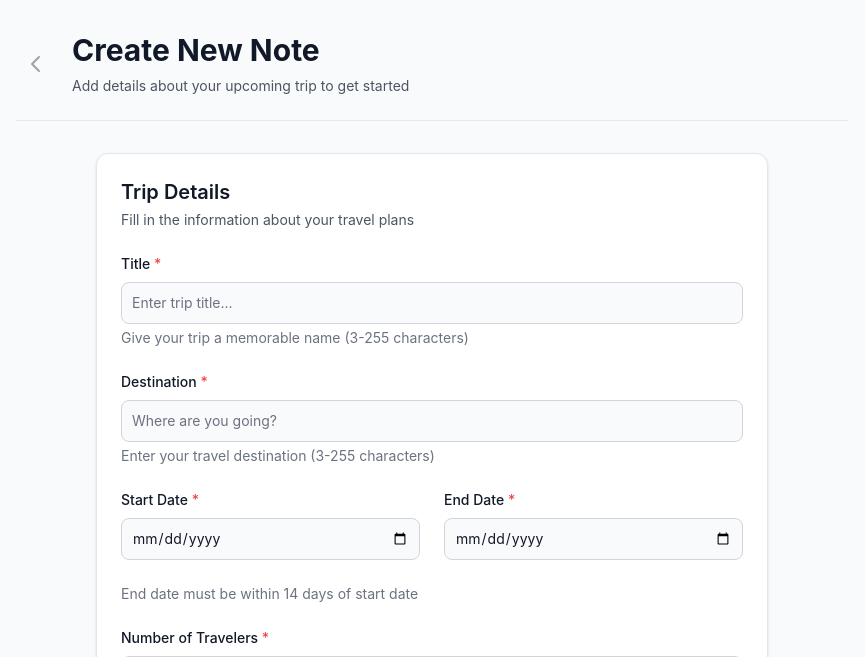
NoteCreateView - Core Functionality › Form Submission › should handle unexpected errors with generic message
# Fill form with minimal data
Type "Test Title" into the field labelled "Title *" at [432, 303], box top-left (121, 282), bottom-right (743, 324)
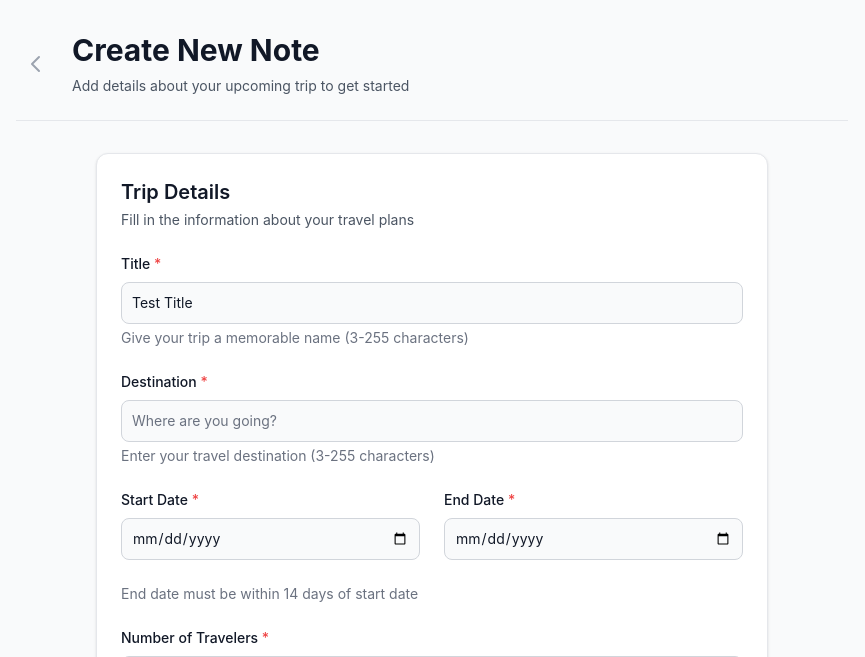
Type "Test Place" into the field labelled "Destination *" at [432, 421], box top-left (121, 400), bottom-right (743, 442)
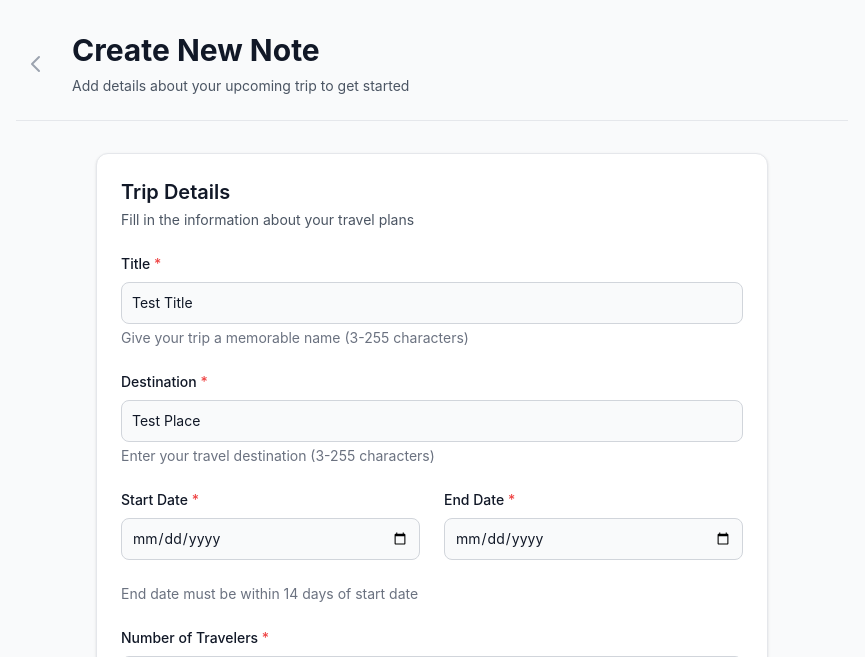
Type "2025-07-10" into the date field labelled "Start Date *" at [270, 539], box top-left (121, 518), bottom-right (420, 560)
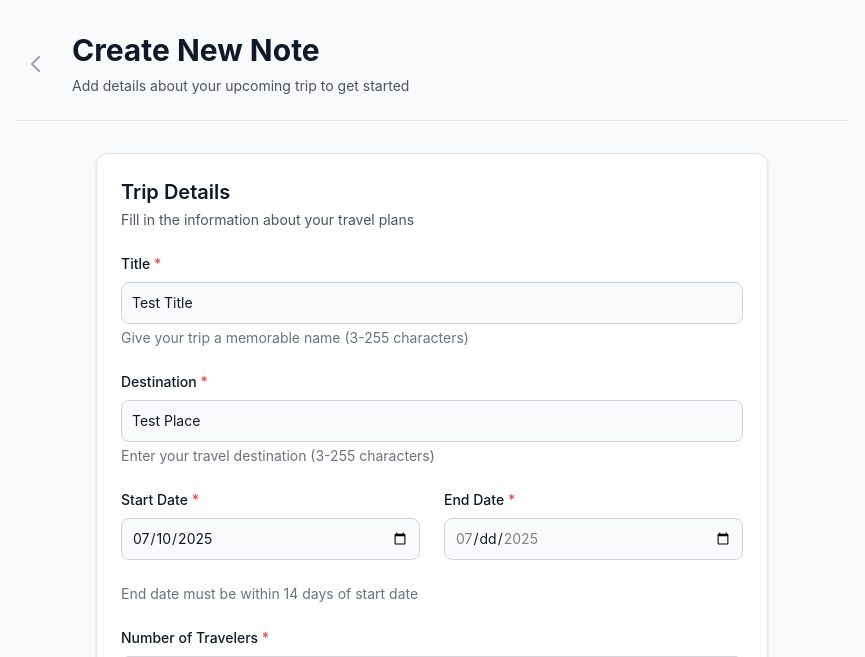
Type "2025-07-15" into the date field labelled "End Date *" at [594, 539], box top-left (444, 518), bottom-right (743, 560)
(page scrolled)
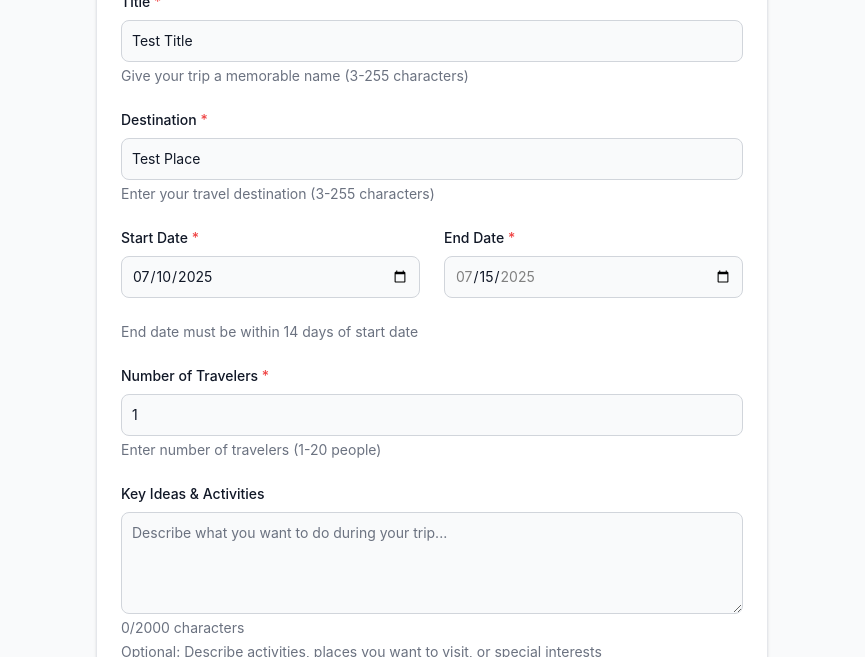
Submit the form
(page scrolled)
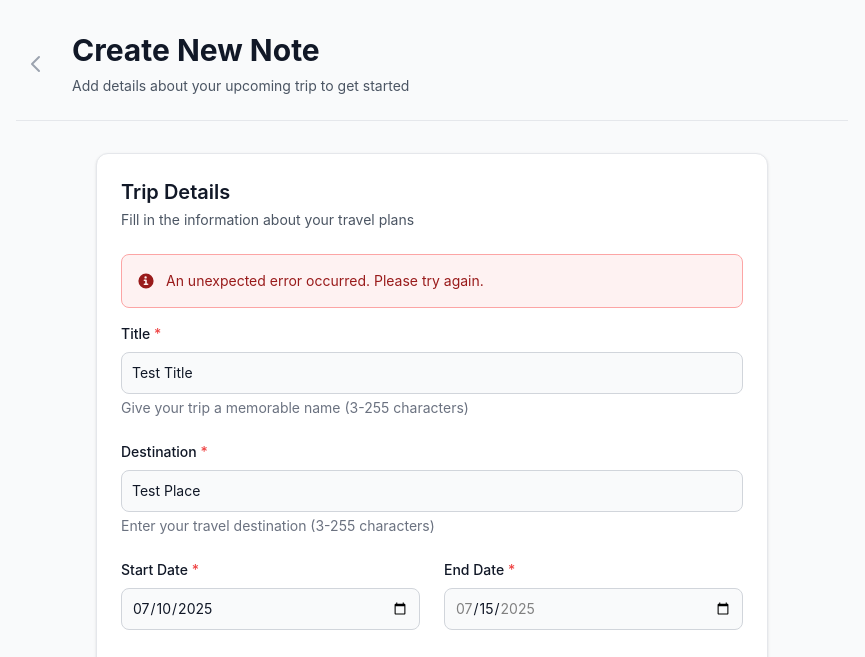
Result: the message "An unexpected error occurred. Please try again." is shown at top-left (121, 254), bottom-right (743, 308)
Result: the text "An unexpected error occurred. Please try again." is shown at top-left (166, 271), bottom-right (484, 291)
